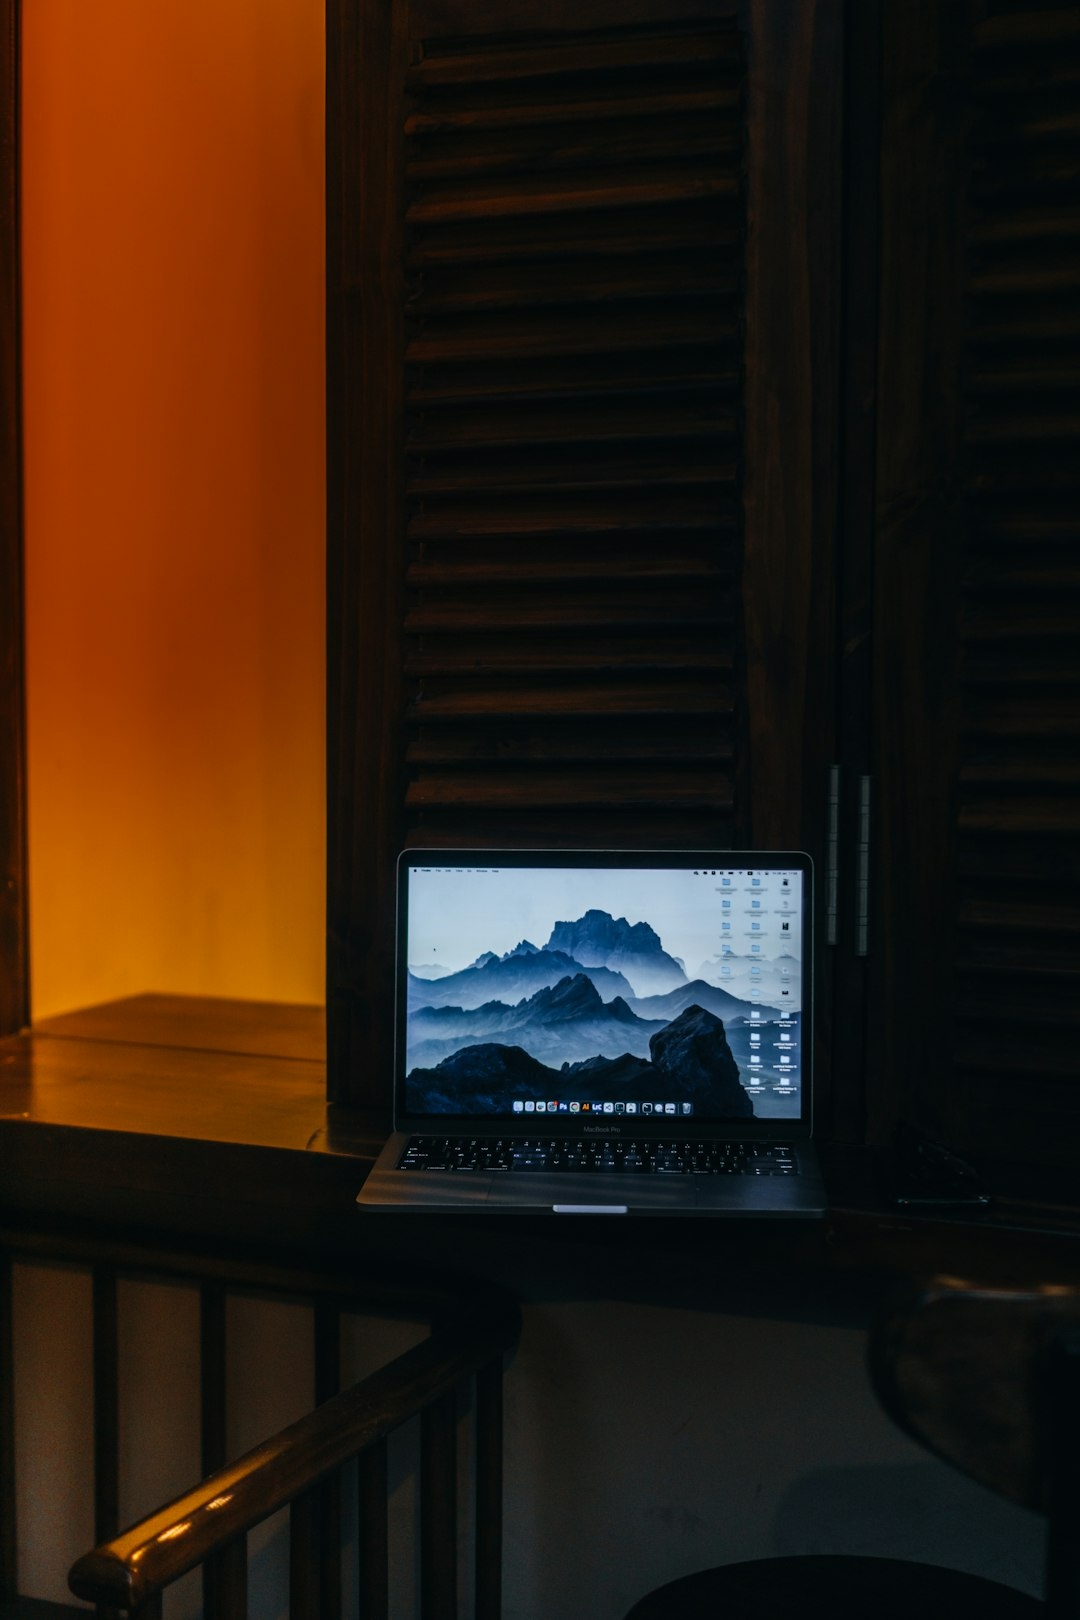laptop: (303, 820, 888, 1245)
